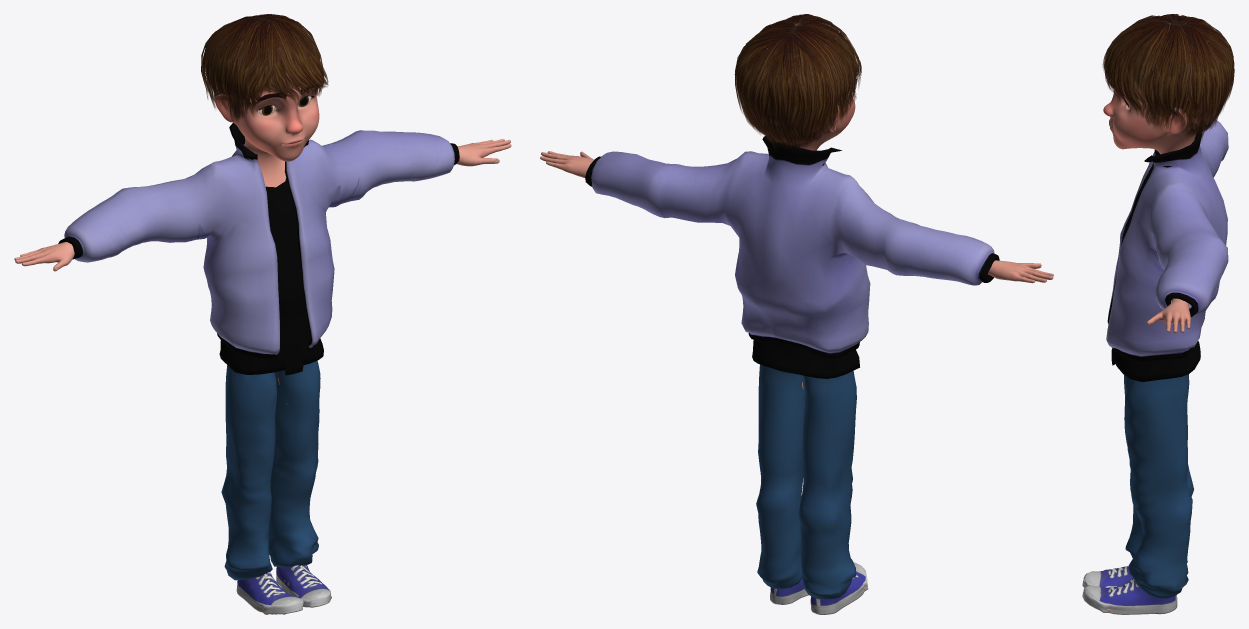
File: cartoon_kid.glb
3 views of the same model, side by side, from view 1: azimuth 30°, elevation 25°; view 2: azimuth 150°, elevation 25°; view 3: azimuth 270°, elevation 25° (orthographic). The views are drawn at different scales.
Parts seen in each view (by area): view 1: char1.002_4, char1.001_3, char1_2, hair_7, char1.003_5; view 2: char1.002_4, char1.001_3, hair_7, char1_2, char1.003_5; view 3: char1.002_4, char1.001_3, hair_7, char1_2, char1.003_5.
Boxes of the visible parts, box(x1,y1,x2,y2) form: char1.002_4: box(58, 123, 459, 358); char1.001_3: box(221, 360, 320, 580); char1_2: box(14, 21, 511, 614); hair_7: box(201, 14, 328, 122); char1.003_5: box(219, 178, 323, 375); char1.002_4: box(585, 136, 999, 358); char1.001_3: box(756, 364, 856, 599); hair_7: box(734, 14, 861, 151); char1_2: box(540, 23, 1053, 614); char1.003_5: box(752, 339, 859, 378); char1.002_4: box(1106, 119, 1228, 362); char1.001_3: box(1124, 374, 1193, 598); hair_7: box(1102, 14, 1234, 141); char1_2: box(1082, 22, 1207, 614); char1.003_5: box(1111, 212, 1200, 382).
Bounding box in the file's own units: 0.8373 × 0.9149 × 0.2183.
Materials: 24 (24 with a texture image).
